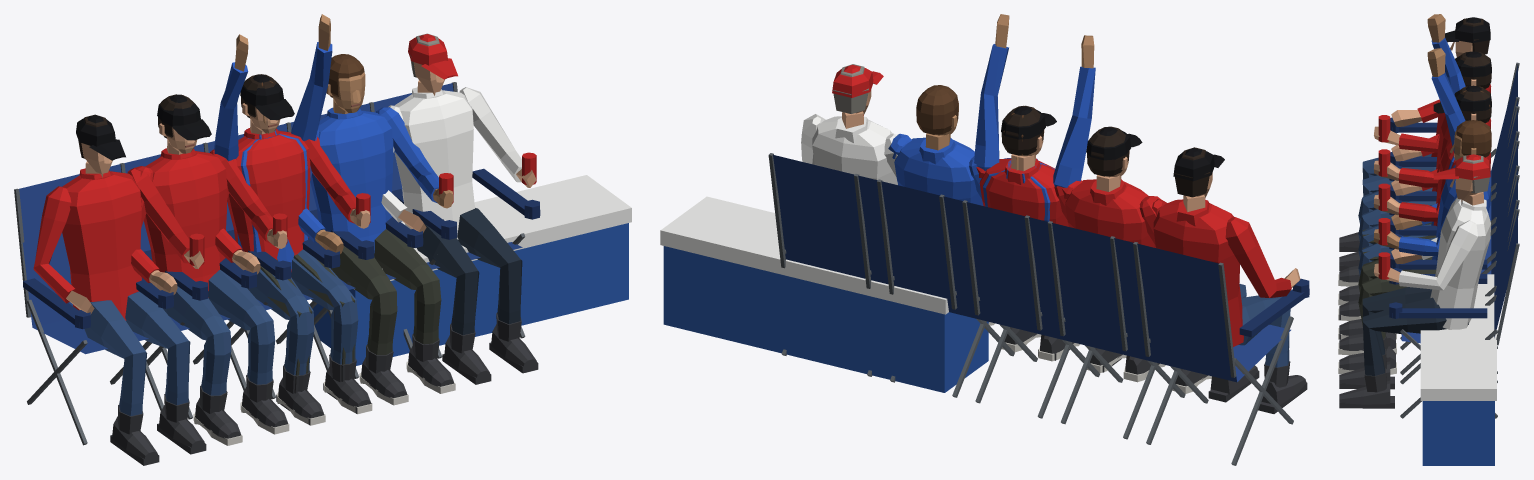
Rendered from camp_chairs.glb.
3 renders of one model, left to right at view 1: azimuth 30°, elevation 25°; view 2: azimuth 150°, elevation 25°; view 3: azimuth 270°, elevation 25°, orthographic. The views are drawn at different scales.
Parts seen in each view (by area): view 1: Three, Two, One; view 2: Three, Two, One; view 3: Three, Two, One.
Boxes of the visible parts, box(x1,y1,x2,y2) form: Three: box(14, 14, 631, 465); Two: box(110, 54, 548, 445); One: box(193, 74, 465, 425); Three: box(660, 14, 1309, 465); Two: box(745, 85, 1211, 444); One: box(831, 105, 1126, 424); Three: box(1339, 14, 1519, 465); Two: box(1338, 51, 1519, 384); One: box(1338, 85, 1519, 350).
Bounding box in the file's own units: 2.95 × 1.72 × 0.949.
